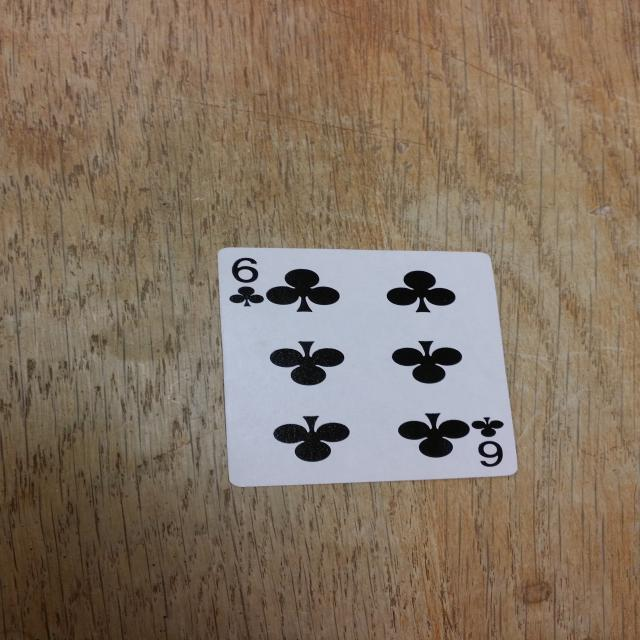6c: (218, 249, 274, 314), (463, 414, 513, 472)
